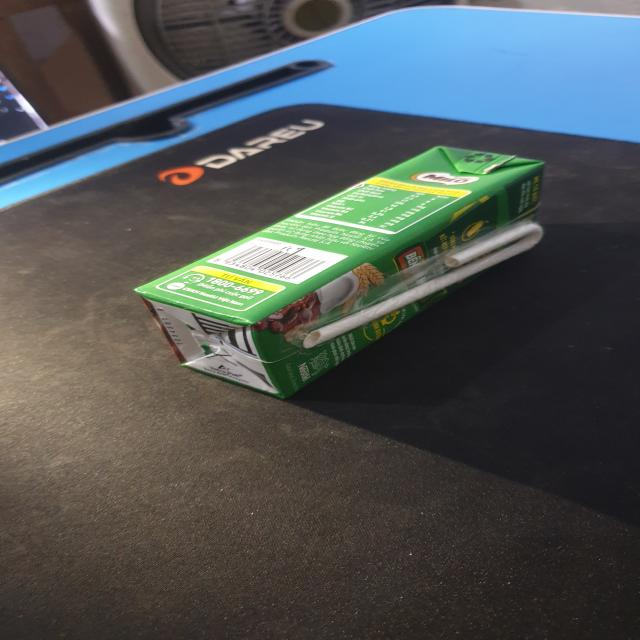Milo: (131, 142, 554, 401)
